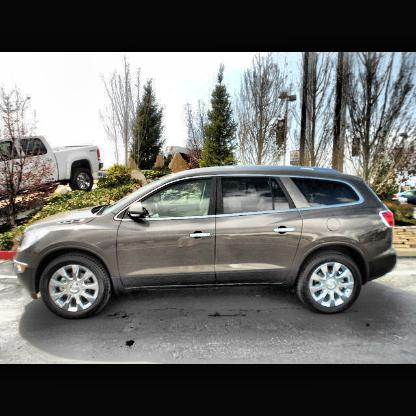Buick Enclave SUV 2012: (10, 164, 399, 321)
